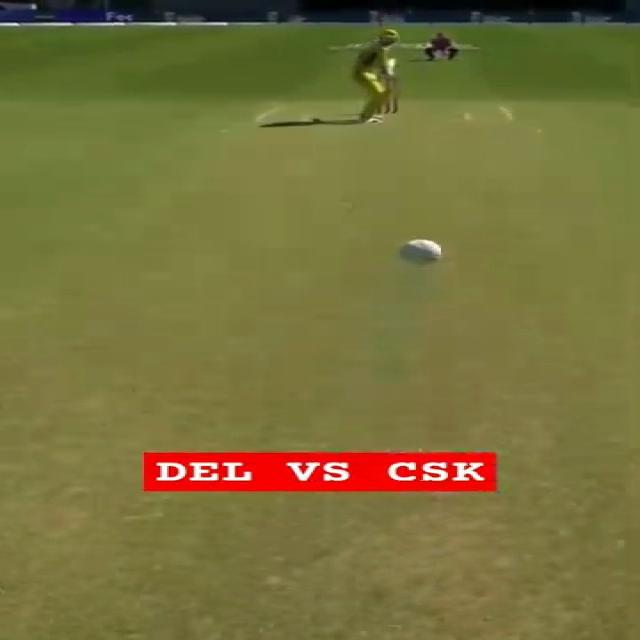ball: (388, 237, 450, 270)
